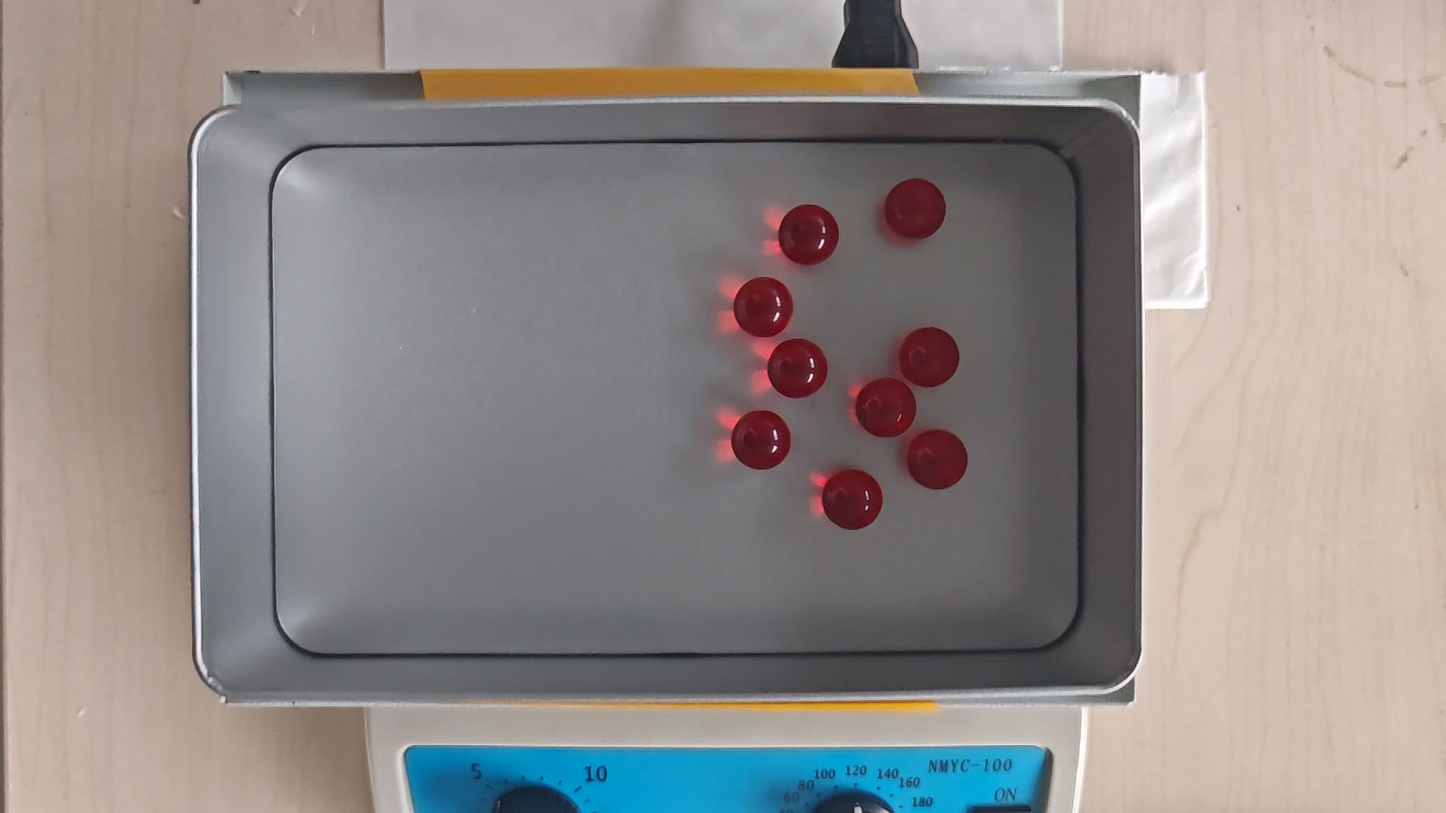ball: (885, 177, 947, 240), (822, 468, 884, 531), (906, 429, 968, 491), (767, 338, 828, 399), (899, 326, 960, 387), (732, 409, 792, 471), (779, 204, 839, 266), (855, 378, 917, 438), (734, 276, 793, 338)
container: (272, 141, 1080, 655)
